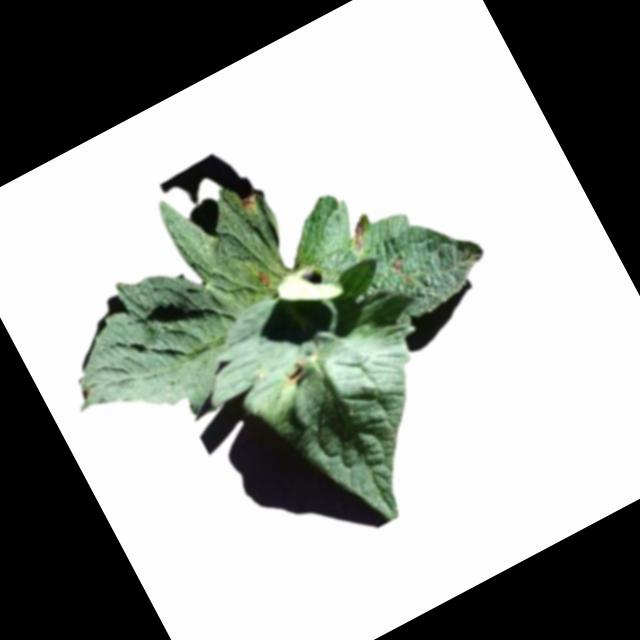Early_blight: (342, 217, 377, 254), (279, 359, 312, 390), (253, 267, 275, 290), (237, 191, 259, 213), (389, 255, 408, 274)
